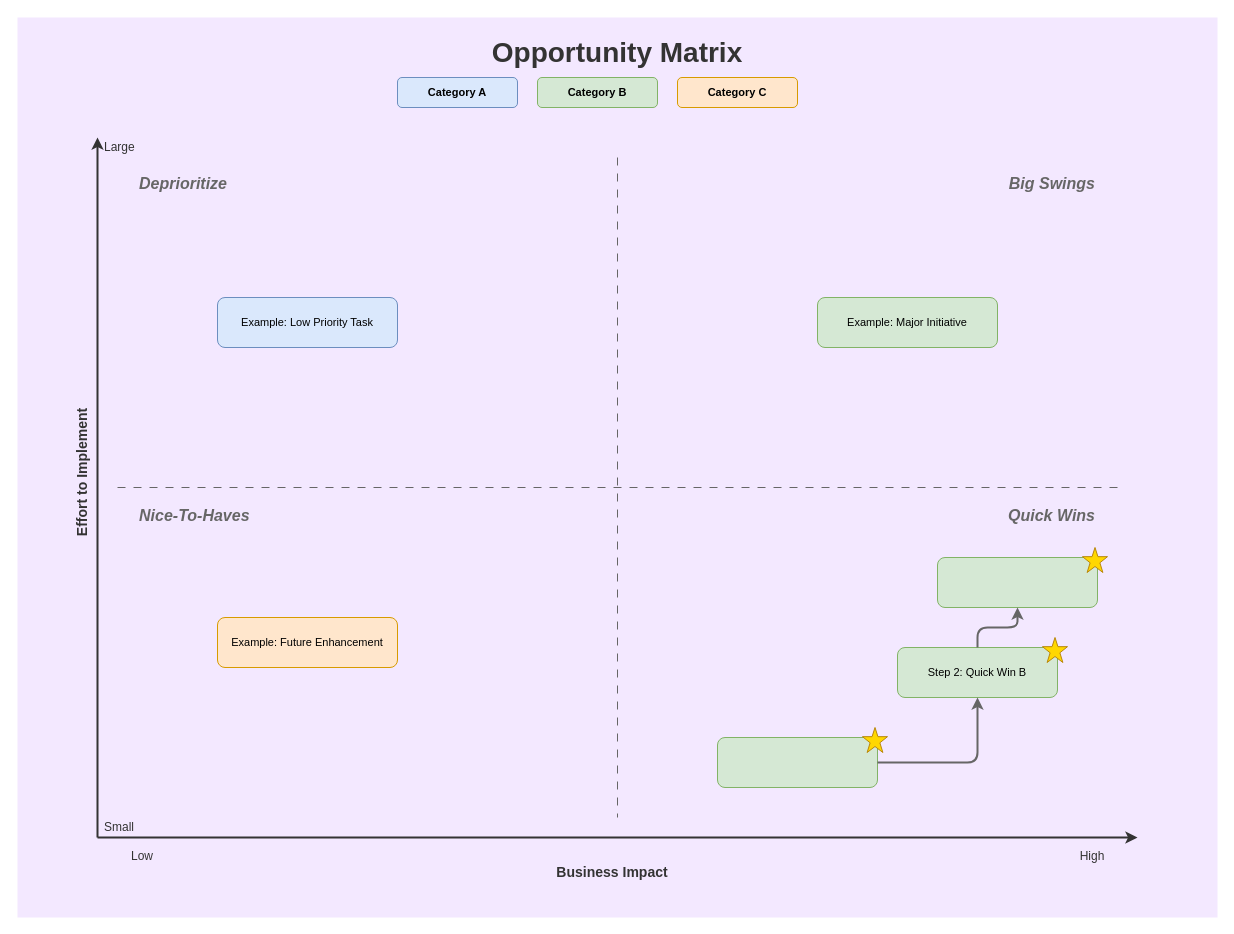
This 1234x934 diagram has some shape labels left out. Each missing label, with the box of its shape:
Step 1: Quick Win A: (716, 736, 878, 788)
Step 3: Quick Win C: (936, 556, 1098, 608)
